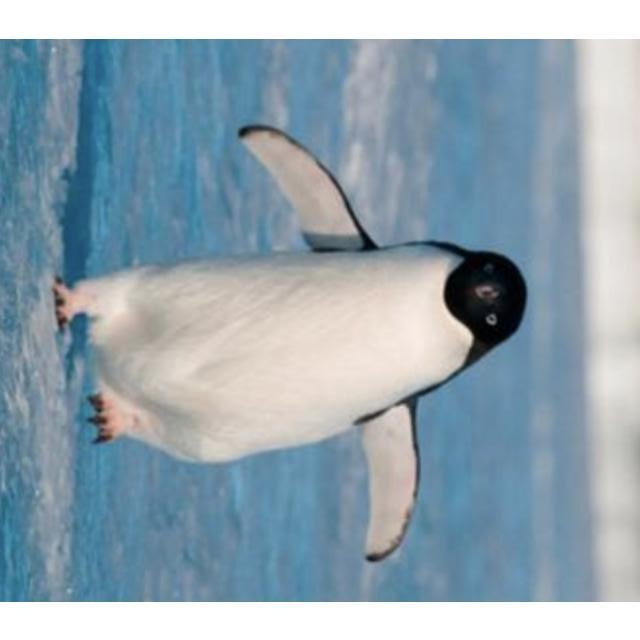penguin: (50, 124, 527, 563)
